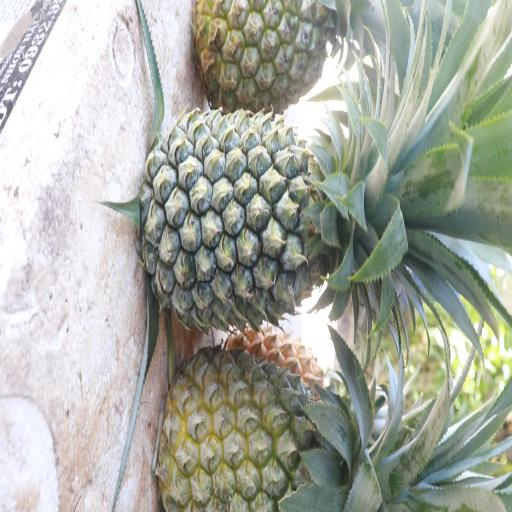------------------------------: (161, 343, 363, 512), (196, 0, 356, 112)
